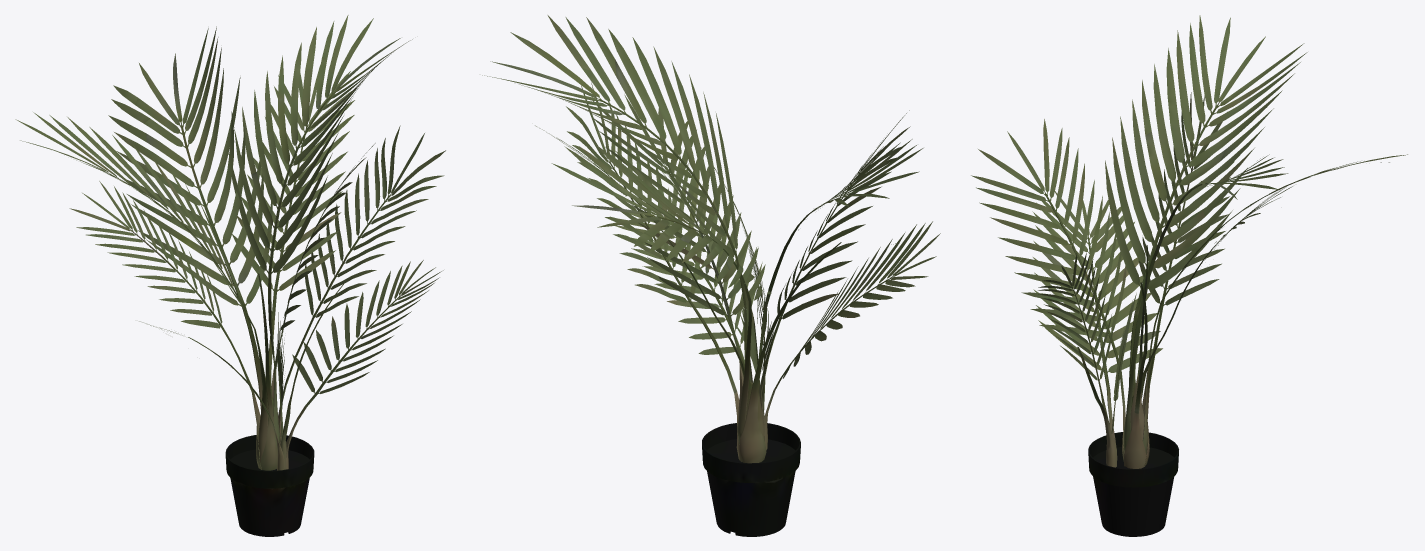
Rendered from 00615225-mini.glb.
3 views of the same model, side by side, from view 1: azimuth 30°, elevation 25°; view 2: azimuth 150°, elevation 25°; view 3: azimuth 270°, elevation 25° (orthographic). The views are drawn at different scales.
Visible parts, largest first — view 1: nodes_0; view 2: nodes_0; view 3: nodes_0.
Boxes of the visible parts, box(x1,y1,x2,y2) form: nodes_0: box(15, 15, 445, 536); nodes_0: box(482, 15, 940, 536); nodes_0: box(971, 15, 1407, 536).
Bounding box in the file's own units: 0.6317 × 0.6802 × 0.6144.
Materials: 1 (1 with a texture image).
